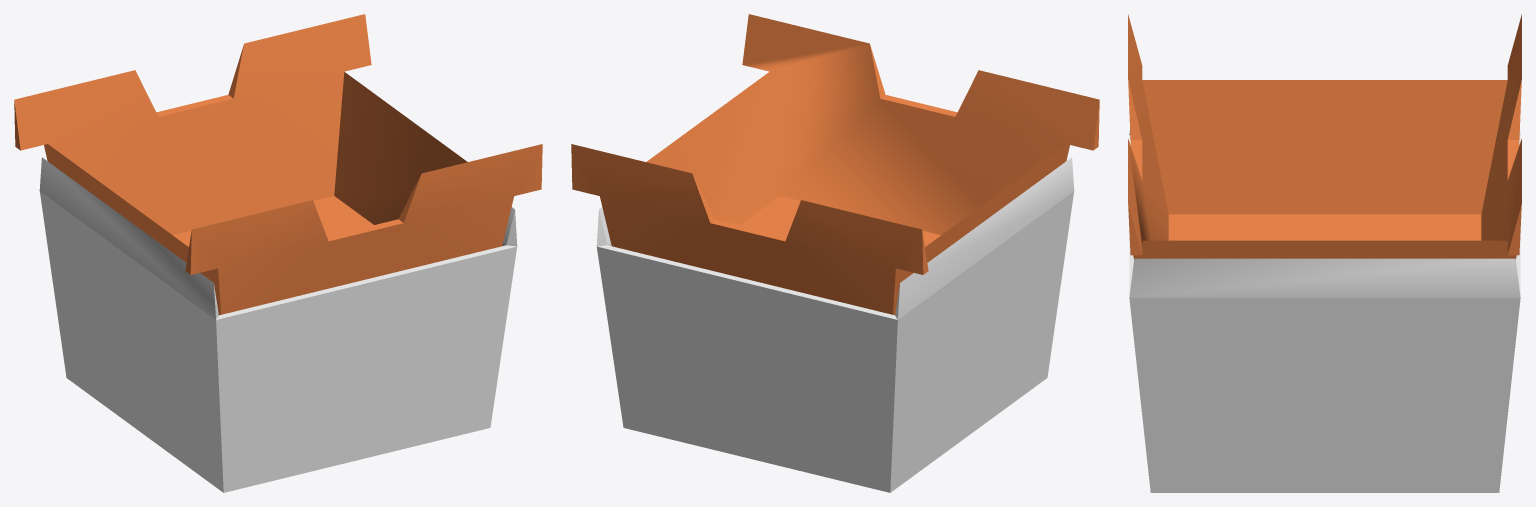
Rendered from PaperBox_geo.fbx.
3 views of the same model, side by side, from view 1: azimuth 30°, elevation 25°; view 2: azimuth 150°, elevation 25°; view 3: azimuth 270°, elevation 25° (orthographic). The views are drawn at different scales.
Visible parts, largest first — view 1: PaperBox_geo; view 2: PaperBox_geo; view 3: PaperBox_geo.
Part boxes in pixels (box(x1,y1,x2,y2)): PaperBox_geo: box(14, 14, 542, 492); PaperBox_geo: box(571, 14, 1099, 492); PaperBox_geo: box(1128, 14, 1521, 492).
Bounding box in the file's own units: 0.6214 × 0.5444 × 0.4757.
